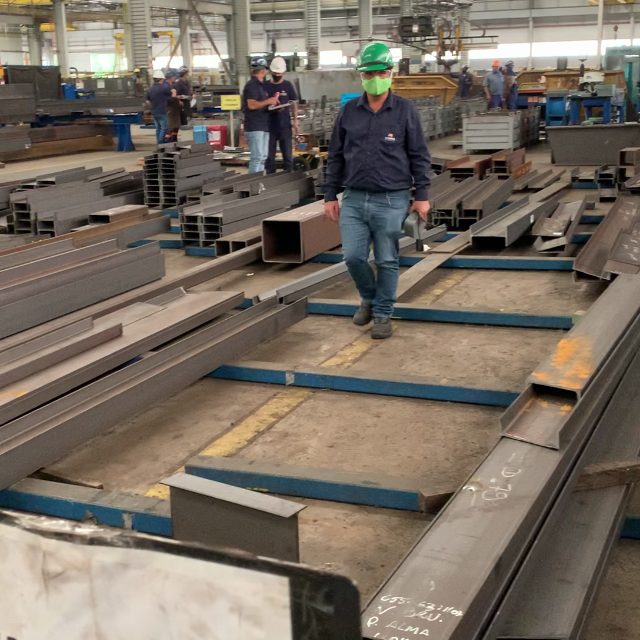eye-glass: (360, 68, 394, 78)
helmet: (355, 42, 395, 72)
mask: (359, 79, 391, 93)
person: (326, 42, 427, 337)
safety-shoe: (369, 315, 393, 340), (351, 301, 373, 324)
